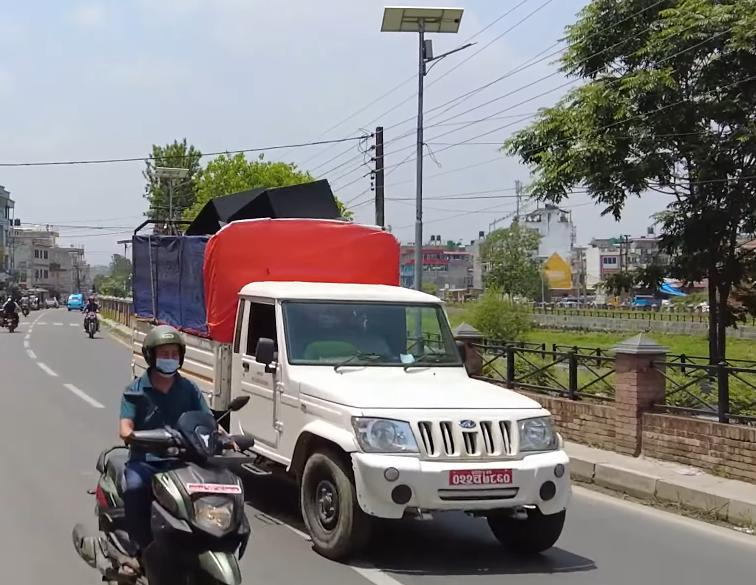bike: (79, 296, 105, 339), (0, 289, 23, 337)
scooter: (75, 349, 267, 585)
transport_vehicle: (117, 210, 579, 557)
